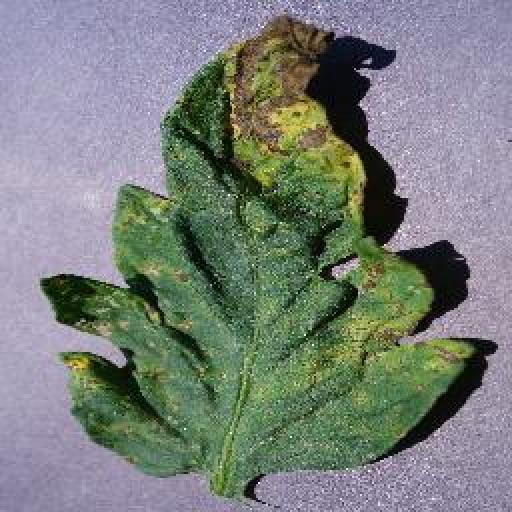Septoria: (41, 17, 472, 479)
